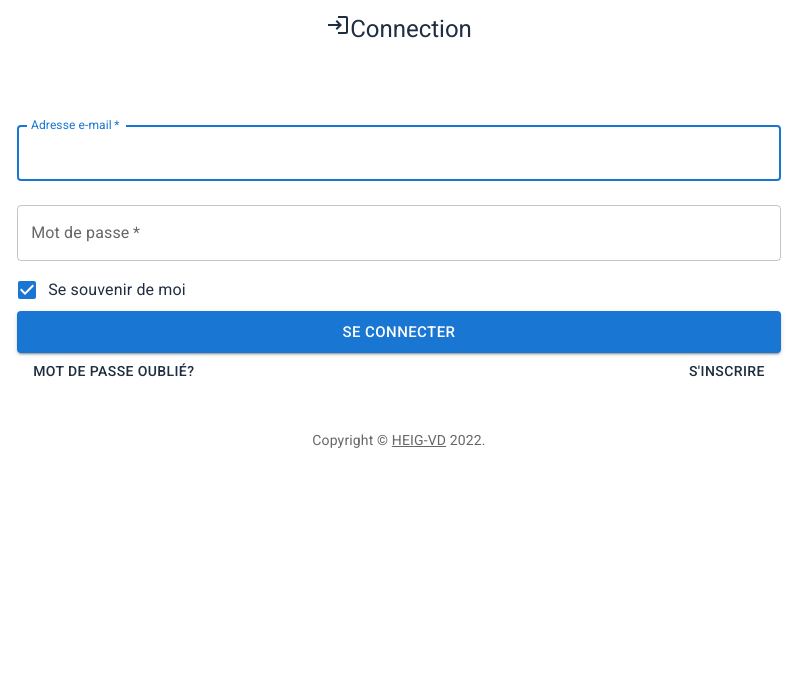
Test: Signin Component › Signin Component | Submit Empty Form
Click the button "Se connecter": {"x": 399, "y": 332} [17,311,781,353]
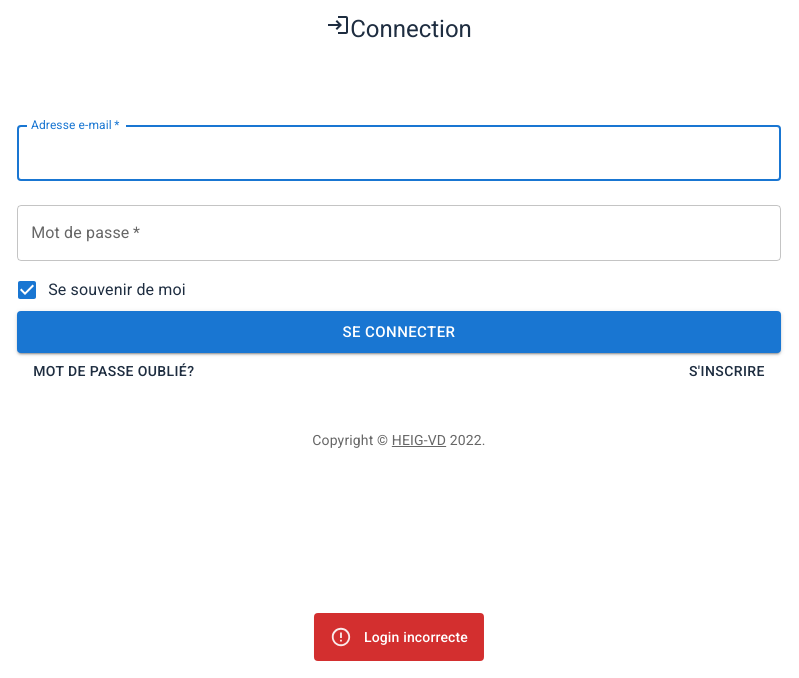
Now the text "Login incorrecte" is shown, box [364,629,468,645]
